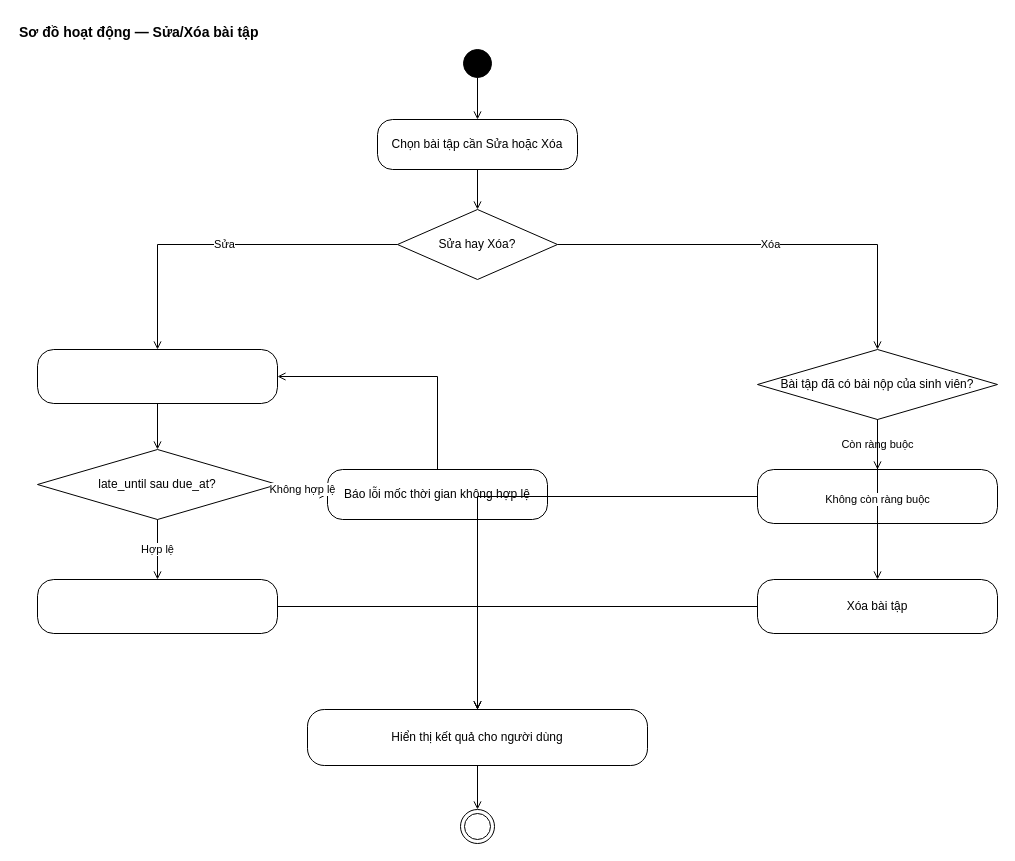
Some shapes in this 1015 by 861 pixel diagram are drawn without their labels. Each missing label, with the box of its shape:
Cảnh báo sẽ mất các bài nộp liên quan: (756, 468, 998, 524)
Lưu thay đổi bài tập: (36, 578, 278, 634)
Sửa hạn nộp, mốc nộp muộn, điểm tối đa: (36, 348, 278, 404)
